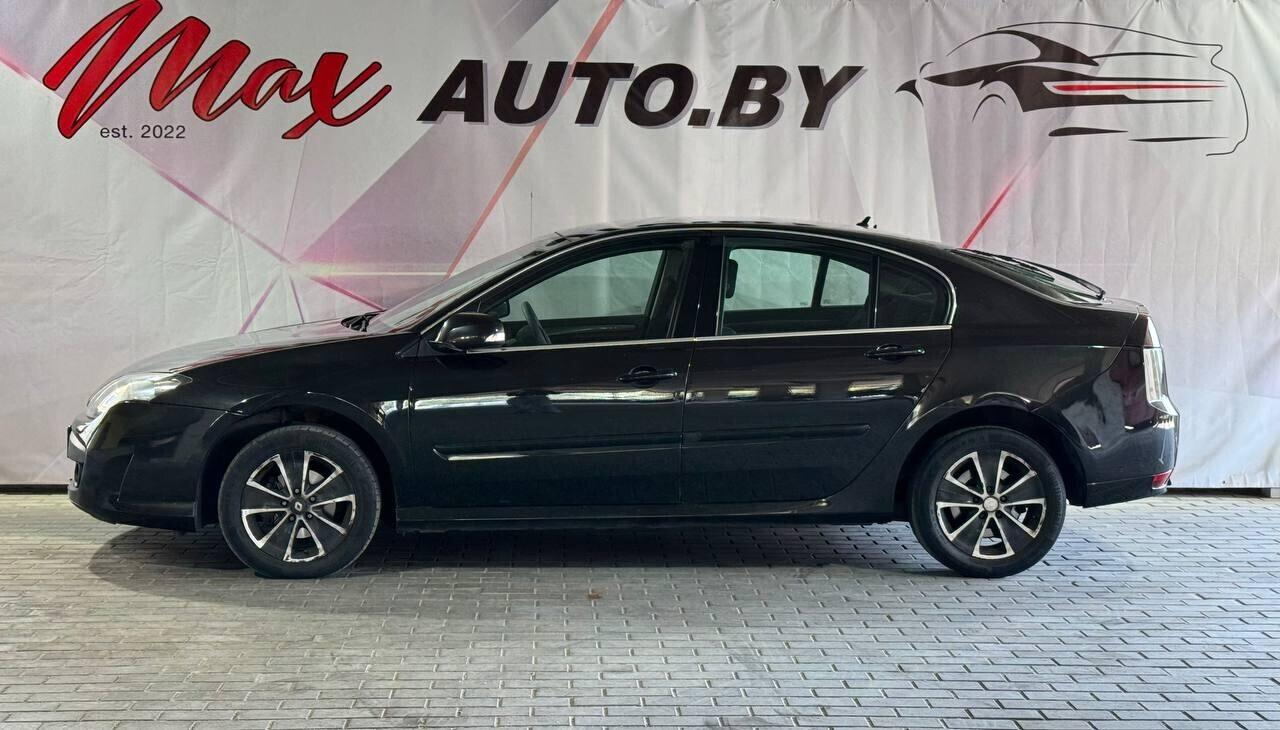Laguna_2007-2011: (66, 218, 1180, 577)
